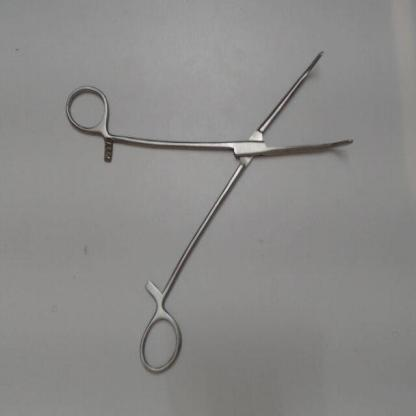Lahey Forceps: (55, 40, 359, 386)
